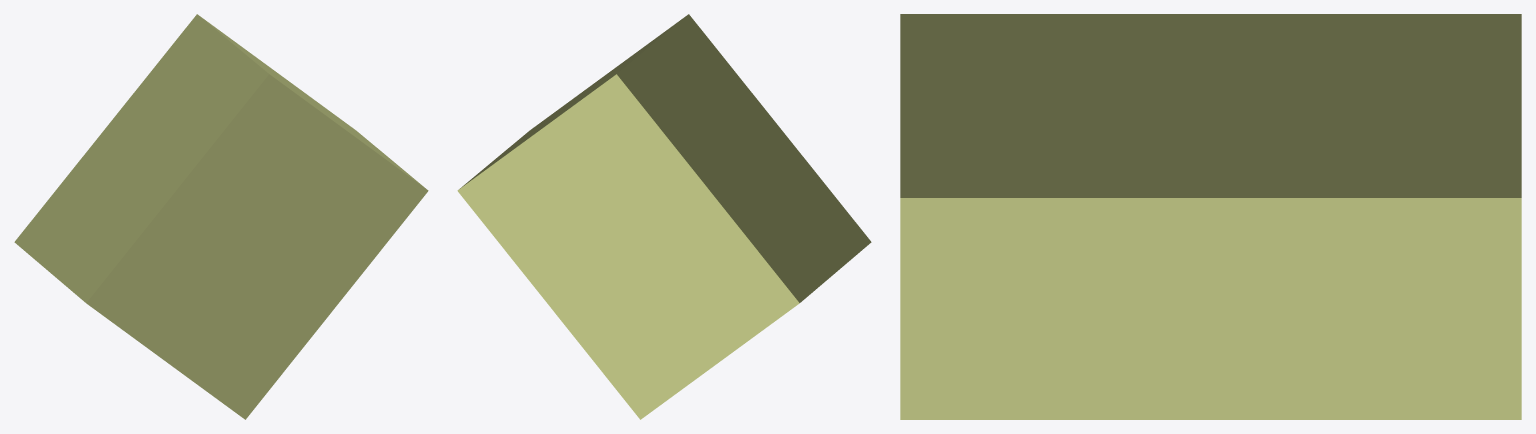
3 renders of one model, left to right at view 1: azimuth 30°, elevation 25°; view 2: azimuth 150°, elevation 25°; view 3: azimuth 270°, elevation 25°, orthographic. The views are drawn at different scales.
Visible parts, largest first — view 1: 0_1_2_0_3_3_1_3_0_1_0; view 2: 0_1_2_0_3_3_1_3_0_1_0; view 3: 0_1_2_0_3_3_1_3_0_1_0.
Boxes of the visible parts, x1,y1,x2,y2 form: 0_1_2_0_3_3_1_3_0_1_0: (14,14,428,419); 0_1_2_0_3_3_1_3_0_1_0: (457,14,871,419); 0_1_2_0_3_3_1_3_0_1_0: (900,14,1521,419).
Bounding box in the file's own units: 5.54 × 5.45 × 6.
